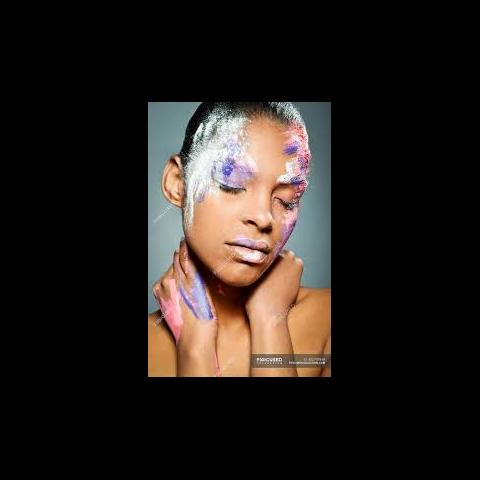closed: (205, 158, 306, 217)
